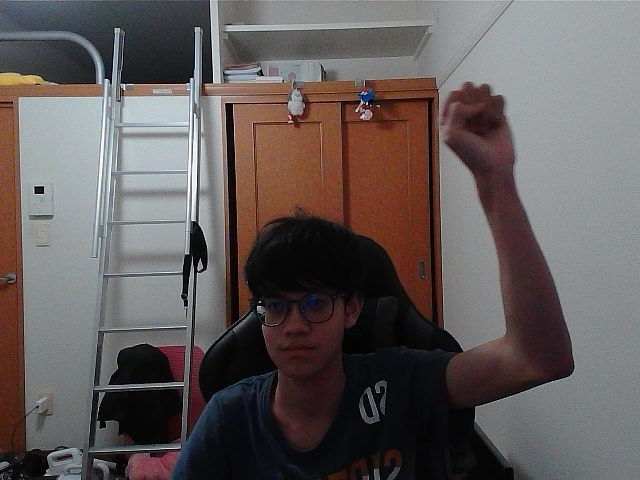closed_palm: (454, 89, 499, 168)
